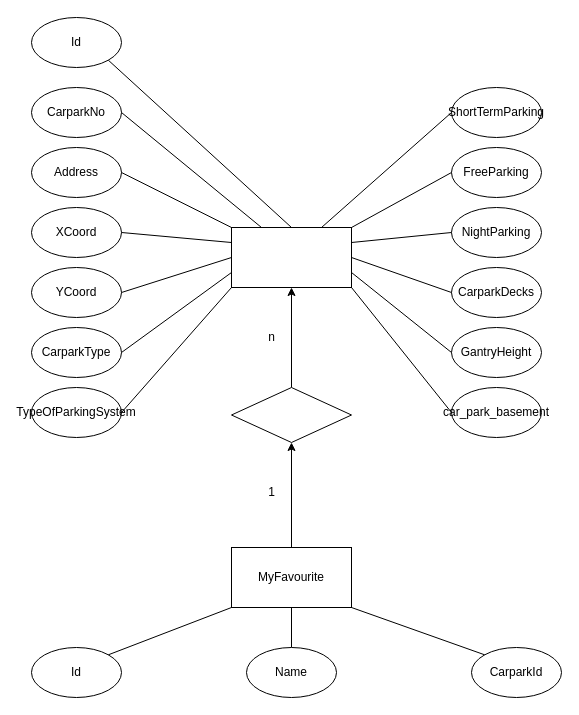
The diagram is 579 pixels wide and 715 high, and some of its shapes have lost their labels. Each missing label, with the box of its shape:
Carpark: (230, 226, 352, 288)
Management: (230, 386, 352, 442)
